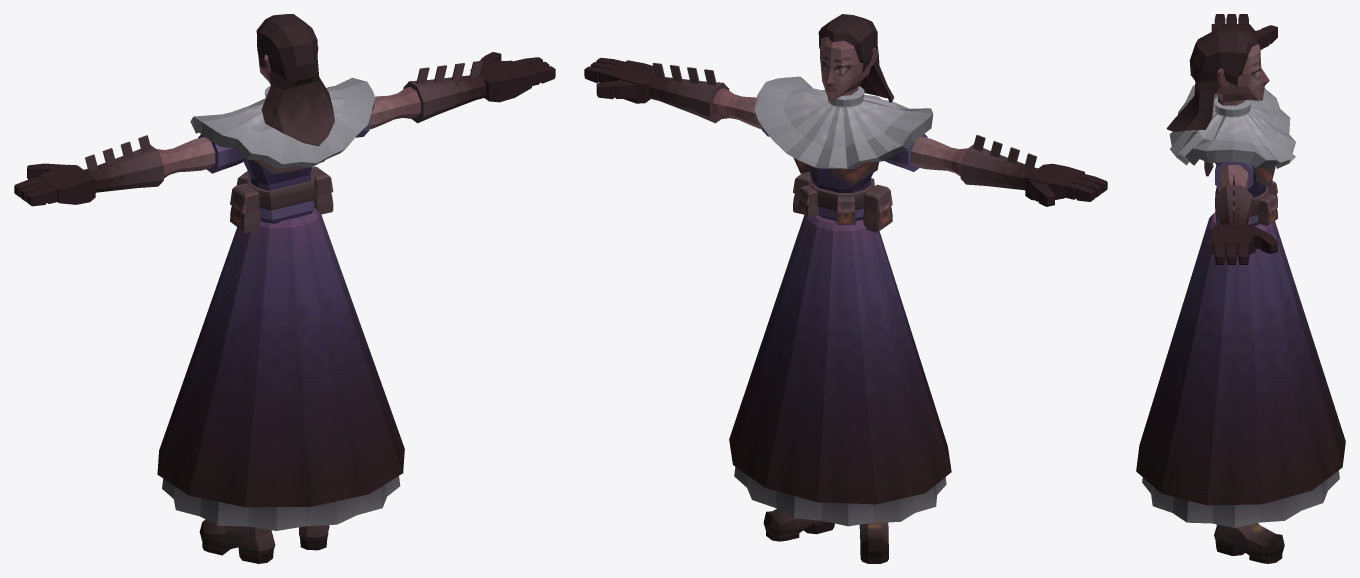
The model's file is Denebola.fbx.
3 renders of one model, left to right at view 1: azimuth 30°, elevation 25°; view 2: azimuth 150°, elevation 25°; view 3: azimuth 270°, elevation 25°, orthographic. The views are drawn at different scales.
Parts seen in each view (by area): view 1: Cube.001; view 2: Cube.001; view 3: Cube.001.
Part boxes in pixels (x1=…): Cube.001: x1=14, y1=14, x2=555, y2=563; Cube.001: x1=584, y1=14, x2=1107, y2=563; Cube.001: x1=1136, y1=14, x2=1345, y2=563.
Bounding box in the file's own units: 600 × 582 × 219.
